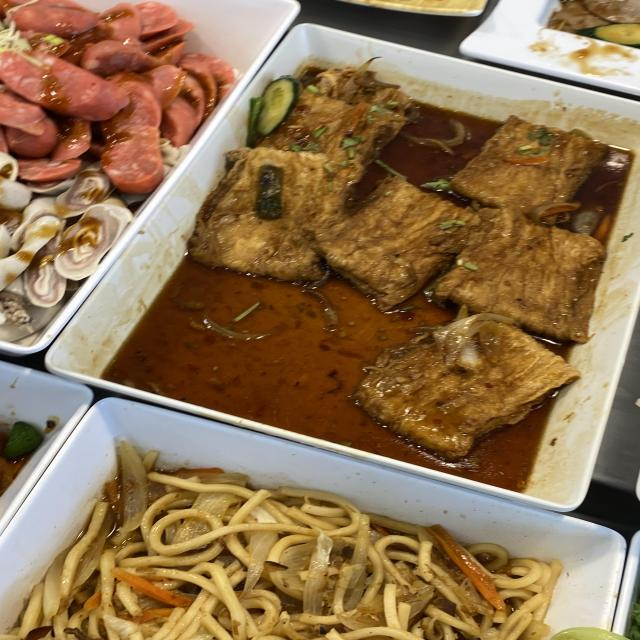bean bag: (271, 128, 568, 370)
